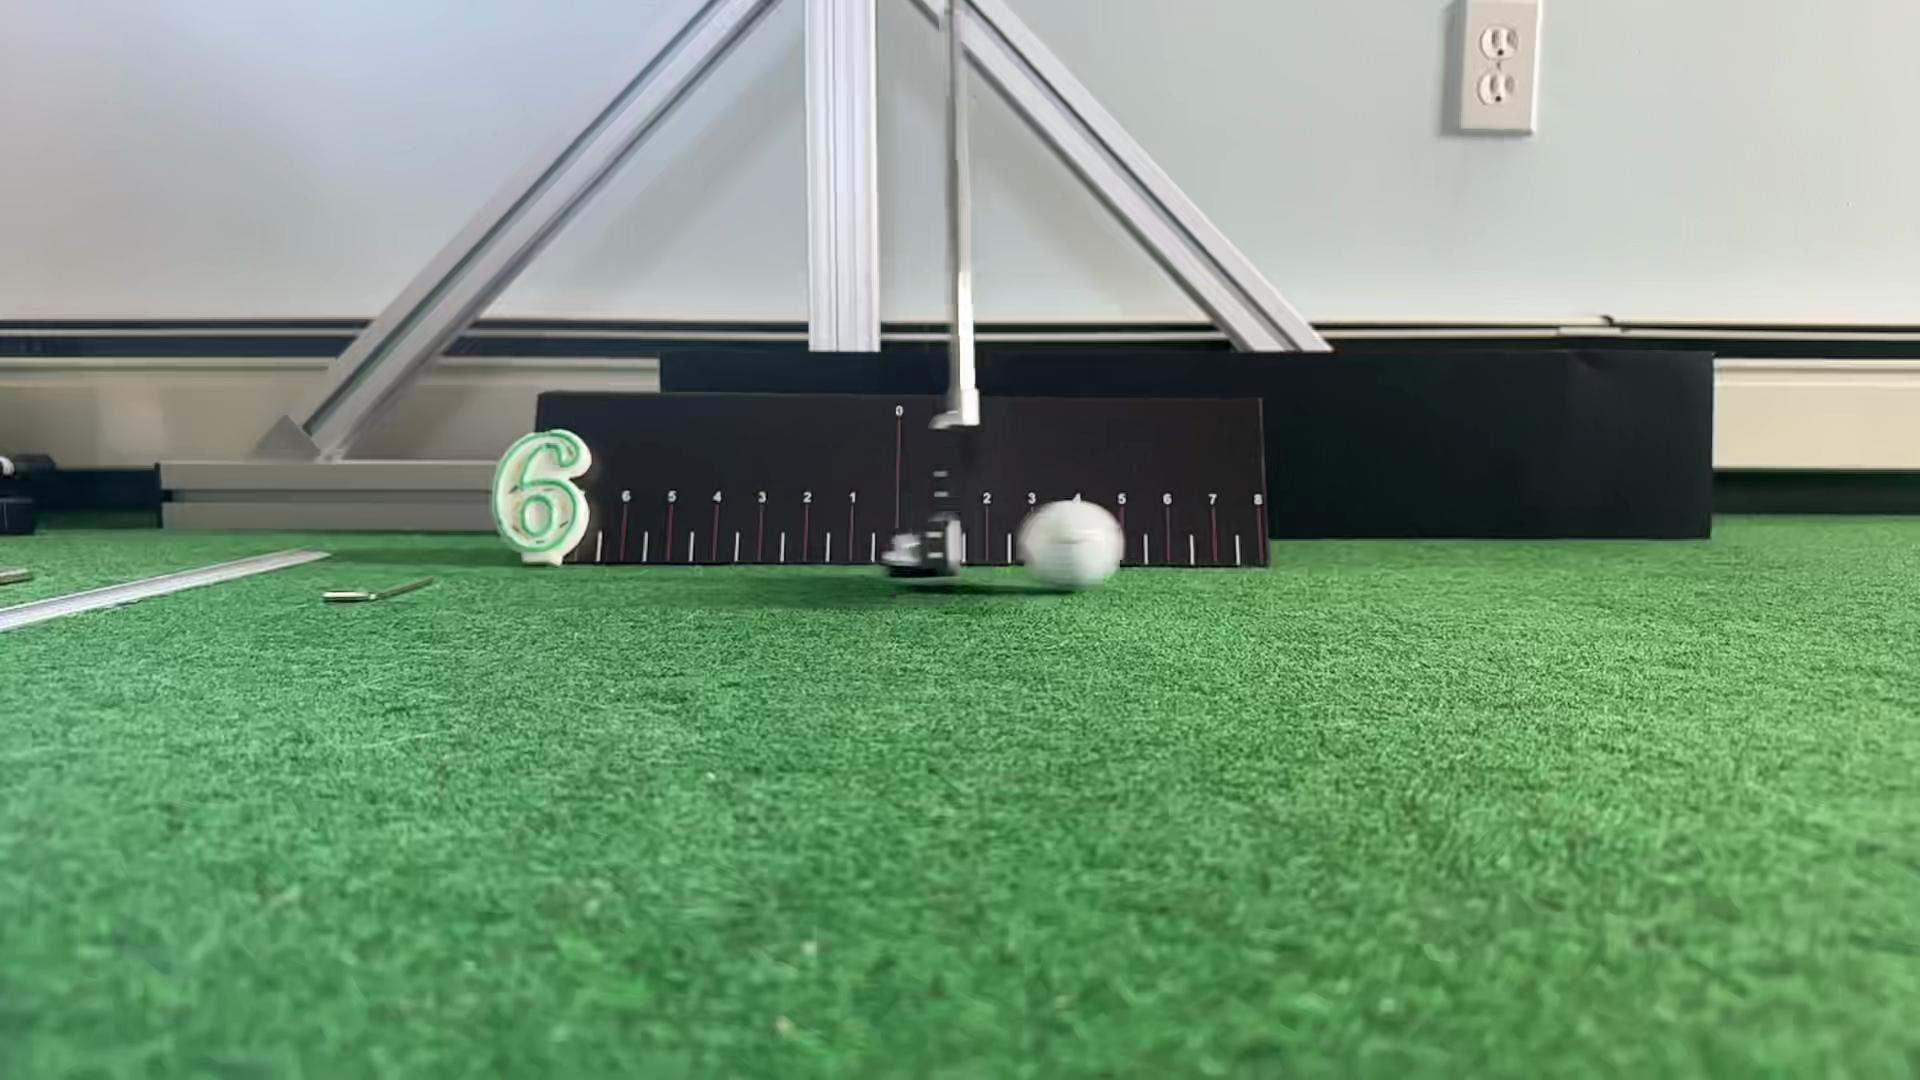golfball: (1021, 501, 1123, 590)
